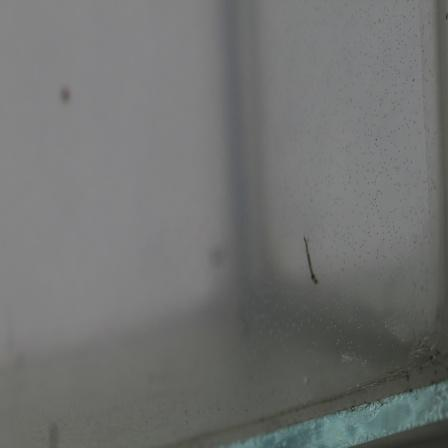Jentik-Nyamuk: (301, 236, 321, 289)
